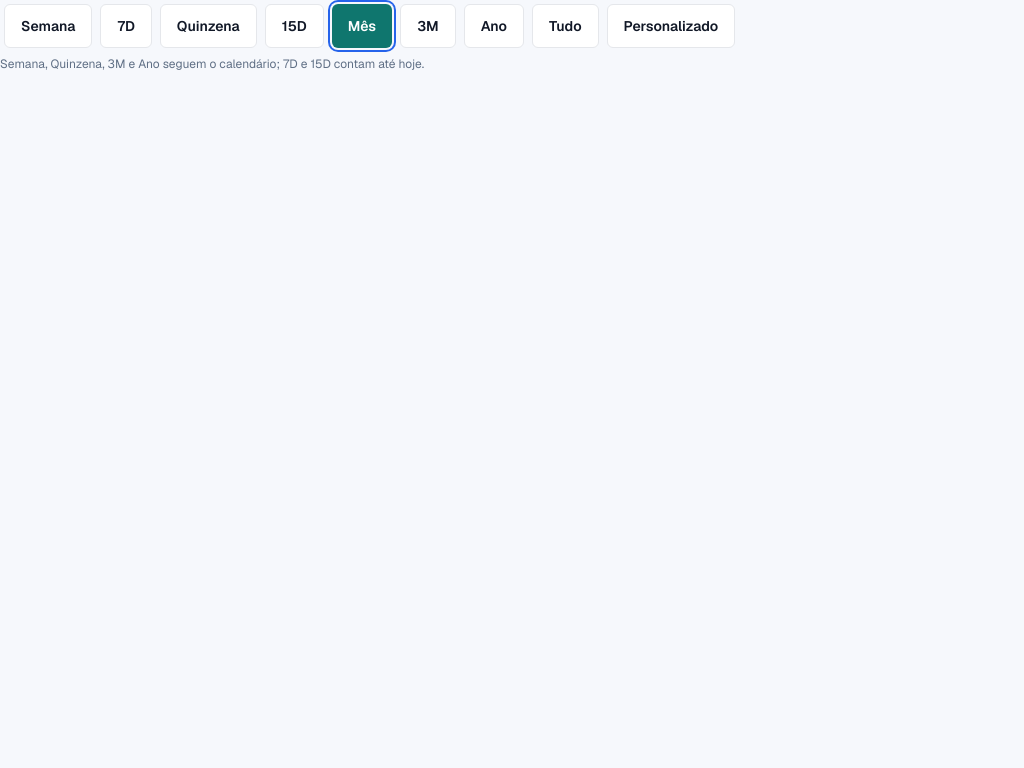
FinancialPeriodSelector › moves focus to a missing final date after validation
Click the button with aria-label "Escolher período personalizado" at (671, 26), box 607,4 -> 735,48
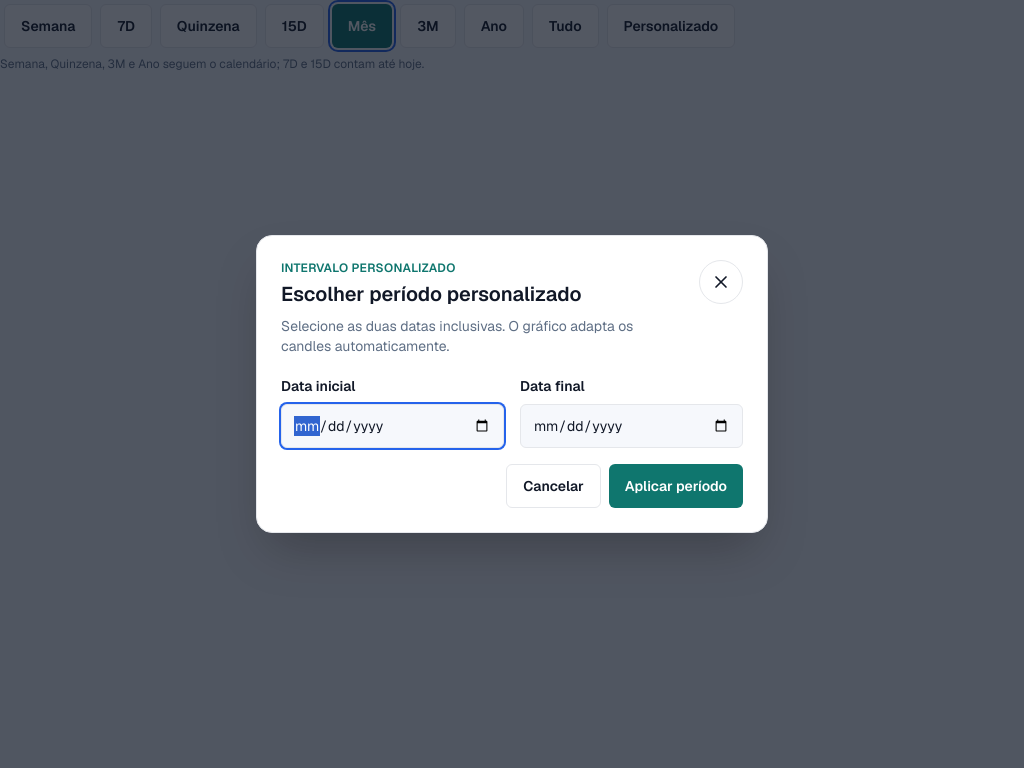
Type "2026-09-01" into the date field labelled "Data inicial" at (392, 426), box 281,404 -> 504,448
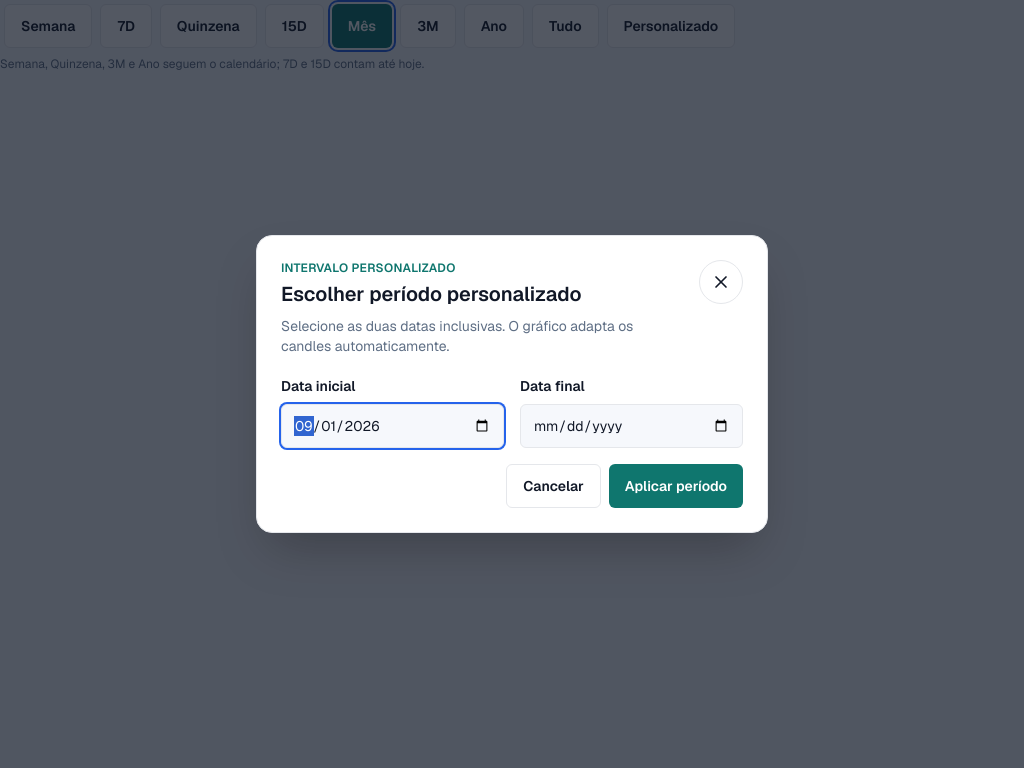
Click the button "Aplicar período" at (676, 486), box 609,464 -> 743,508
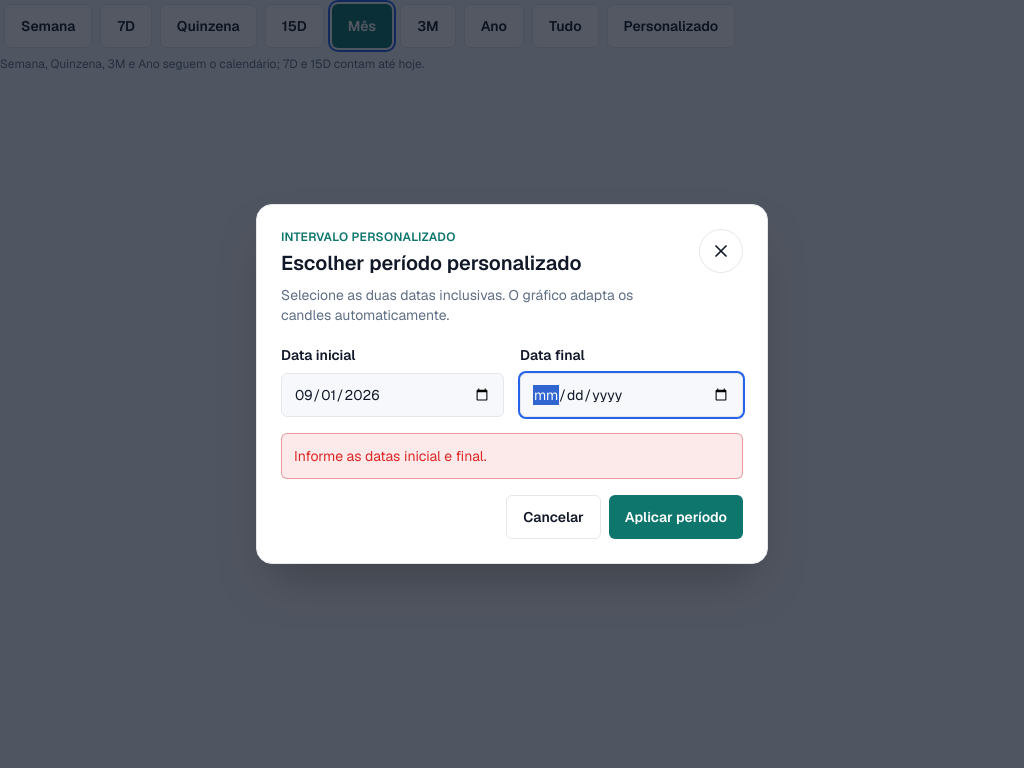
Expected: the message reads "Informe as datas inicial e final.", 294,447 -> 486,465
